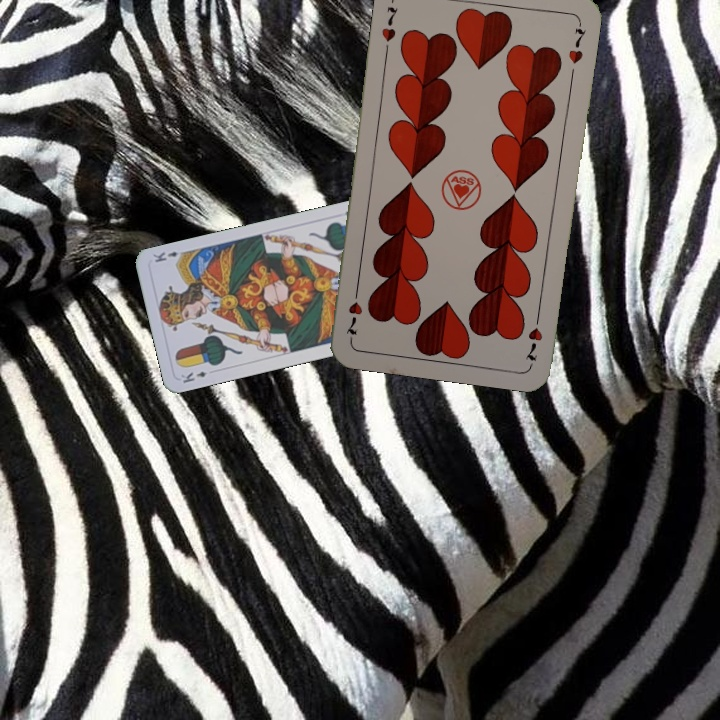EK: (177, 367, 209, 386)
H7: (522, 307, 545, 364), (377, 2, 401, 44)
